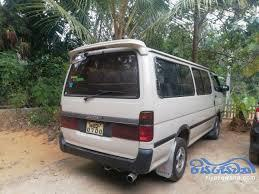Van: (59, 39, 234, 171)
